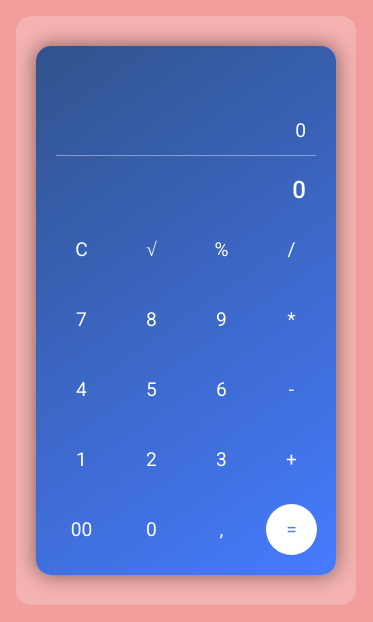
it: Calculator › should handle division by zero
Click the button with test id "btn-1": x=82, y=459 [56,434,107,484]
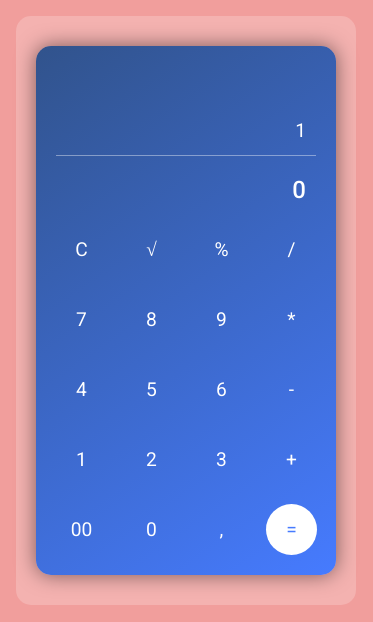
Click the button with test id "btn-/": x=292, y=249 [266,224,317,274]
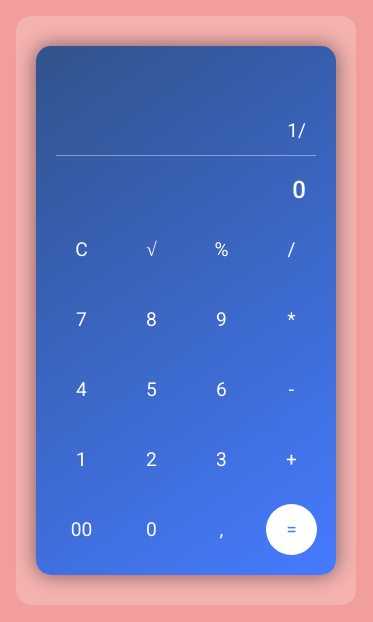
Click the button with test id "btn-0": x=152, y=529 [126,504,177,554]
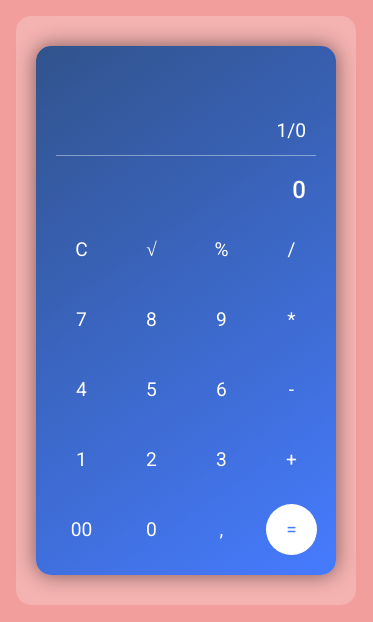
Click the button with test id "btn-=": x=292, y=529 [266,504,317,554]
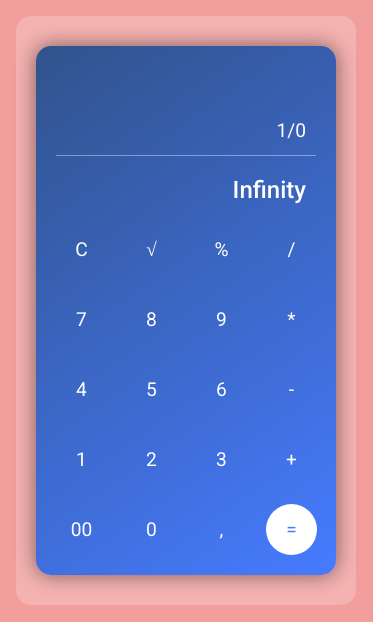
Expected: the text with test id "input-display" reads "1/0", [276,118,306,142]
Expected: the text with test id "result-display" reads "Infinity", [233,176,306,204]
